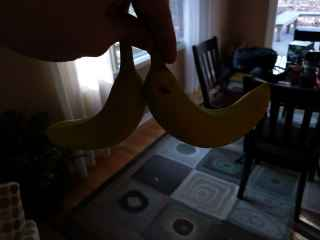banana: (144, 15, 274, 150), (44, 4, 144, 153)
